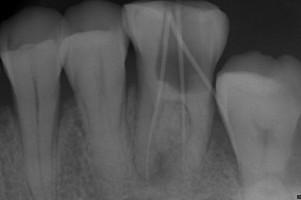Furcation Involvement: (138, 148, 173, 185)
